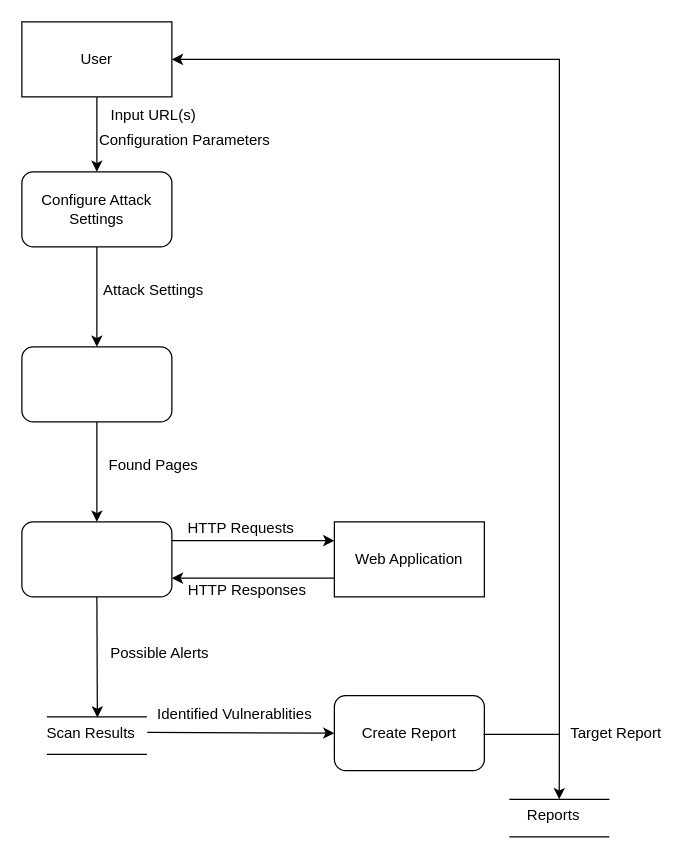
Image size: 694x860. Some labels were removed from this diagram. The shapes that lost their labels are listed below. From the top down, each one's centre as x and y in pixels, then its label:
At (x=96, y=384): "Web Page Discovery/Crawling".
At (x=96, y=559): "Scan Web Application".
